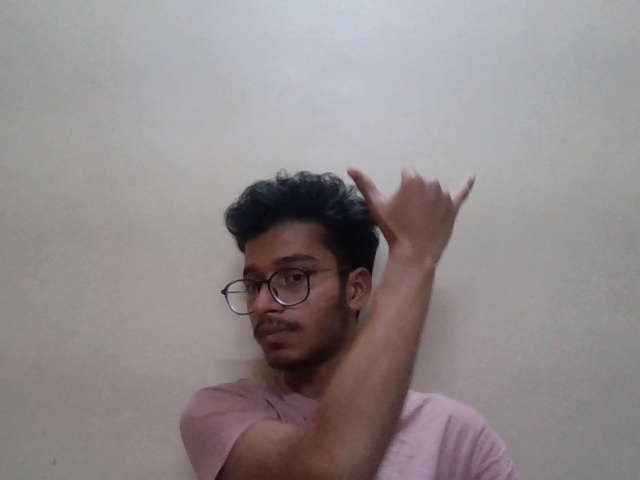Y: (337, 151, 482, 272)
